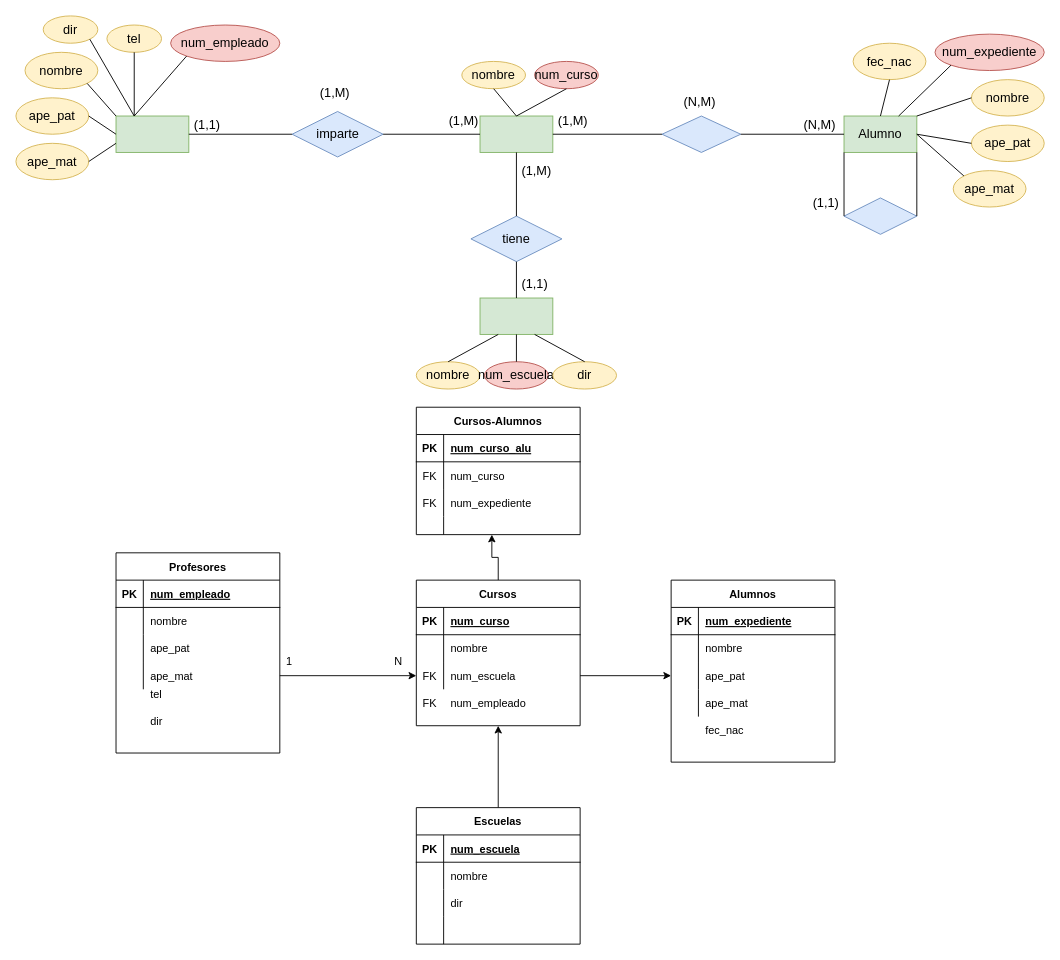
The diagram is 1060 pixels wide and 960 high, and some of its shapes have lost their labels. The shapes that lost their labels are listed below. From the top down, each one's centre as x and y in pixels, then its label:
At pixel 152 133: "Profesor".
At pixel 516 133: "Curso".
At pixel 701 133: "toma".
At pixel 880 215: "tiene jefe".
At pixel 516 315: "Escuela".
